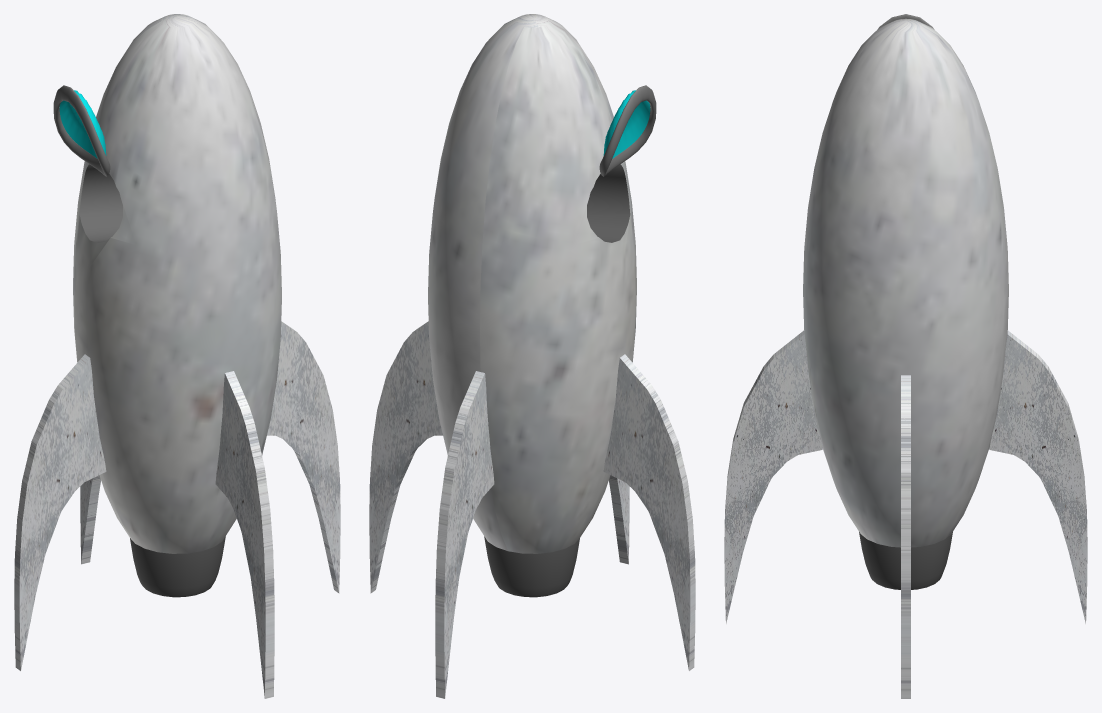
The model's file is Ship.fbx.
3 views of the same model, side by side, from view 1: azimuth 30°, elevation 25°; view 2: azimuth 150°, elevation 25°; view 3: azimuth 270°, elevation 25° (orthographic). The views are drawn at different scales.
Visible parts, largest first — view 1: polySurface5, nurbsToPoly4, nurbsToPoly2, nurbsToPoly1, engine1, polySurface4, nurbsToPoly3, polySurface3; view 2: polySurface5, nurbsToPoly4, nurbsToPoly2, nurbsToPoly3, engine1, polySurface4, nurbsToPoly1, polySurface3; view 3: polySurface5, nurbsToPoly1, nurbsToPoly3, nurbsToPoly2, engine1.
Boxes of the visible parts, x1,y1,x2,y2 form: polySurface5: (73,14,281,553); nurbsToPoly4: (14,354,106,670); nurbsToPoly2: (267,321,340,593); nurbsToPoly1: (215,371,274,698); engine1: (130,536,225,597); polySurface4: (53,85,110,176); nurbsToPoly3: (80,475,100,564); polySurface3: (59,90,106,158); polySurface5: (428,14,636,553); nurbsToPoly4: (603,354,695,670); nurbsToPoly2: (369,321,442,593); nurbsToPoly3: (435,371,494,698); engine1: (484,536,579,597); polySurface4: (599,85,656,176); nurbsToPoly1: (609,475,629,564); polySurface3: (603,90,650,158); polySurface5: (803,18,1008,547); nurbsToPoly1: (724,330,822,623); nurbsToPoly3: (989,330,1087,623); nurbsToPoly2: (901,375,910,698); engine1: (859,532,952,589).
Bounding box in the file's own units: 7.8 × 14.22 × 7.8.
Materials: 6 (2 with a texture image).
